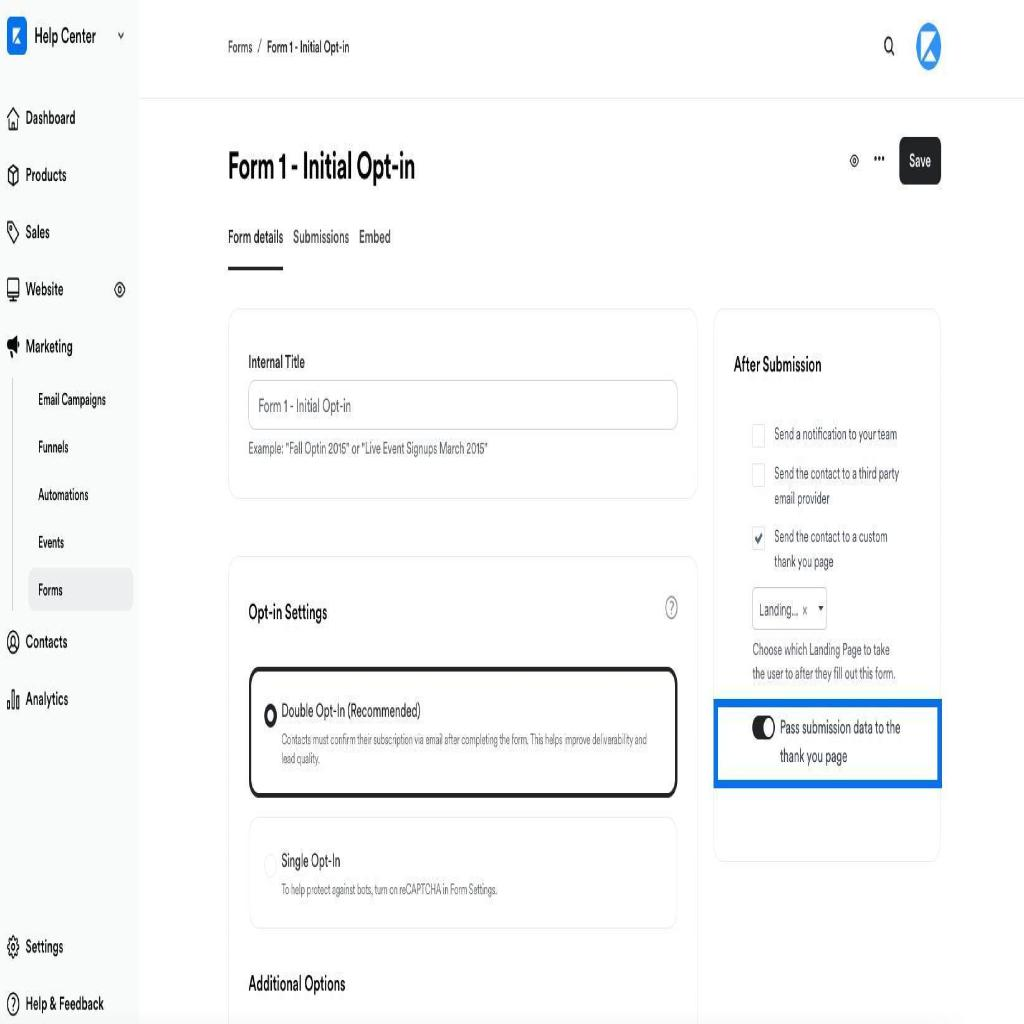button: (898, 136, 943, 186)
checkbox: (751, 423, 765, 451), (751, 460, 765, 488), (752, 524, 766, 550)
dropdown: (751, 585, 828, 631), (32, 18, 128, 53)
icon: (4, 275, 24, 312), (3, 625, 23, 660), (4, 688, 23, 724), (6, 104, 24, 140), (5, 215, 21, 255), (4, 335, 23, 368), (881, 32, 898, 66), (5, 157, 22, 188), (111, 279, 130, 306), (5, 993, 21, 1023), (6, 934, 20, 968), (872, 150, 889, 173), (846, 148, 862, 169)
input: (247, 380, 680, 427)
label: (779, 717, 910, 770), (772, 522, 893, 578), (773, 458, 901, 506), (773, 424, 899, 446)
radio: (263, 849, 279, 885), (264, 700, 277, 734)
switch: (750, 712, 778, 745)
